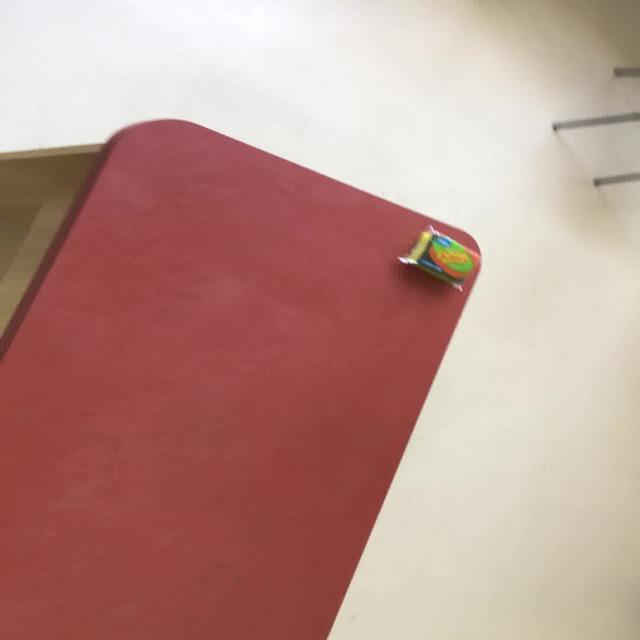sponge: (395, 223, 476, 292)
